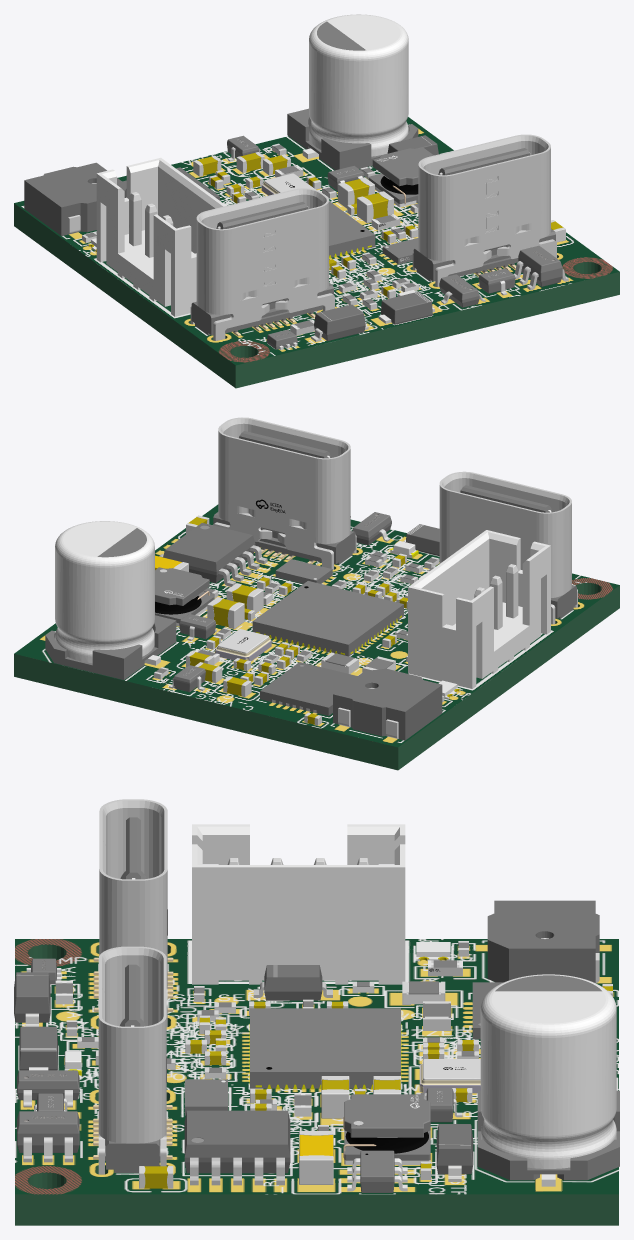
The model's file is development-controller.glb.
3 views of the same model, one above another, from view 1: azimuth 30°, elevation 25°; view 2: azimuth 150°, elevation 25°; view 3: azimuth 270°, elevation 25° (orthographic). The views are drawn at different scales.
Parts seen in each view (by area): view 1: Box0, J_DATA, J_PD, C_BULK, J_MOTOR, BZ1, L_BUCK, U_MCU, U_ESD, D_DATA, D_TVS, Q_BUZZER (+8 smaller); view 2: Box0, J_MOTOR, J_PD, C_BULK, J_DATA, U_MCU, BZ1, U_PD, U_DRV, L_BUCK, Y_MCU, U_FLASH (+7 smaller); view 3: Box0, J_MOTOR, C_BULK, J_PD, U_MCU, J_DATA, BZ1, U_PD, L_BUCK, U_ESD, D_BUZZER, U_BUCK (+15 smaller).
Part boxes in pixels (x1,y1,x2,y2): Box0: (14,117,619,388); J_DATA: (190,188,334,340); J_PD: (412,134,556,286); C_BULK: (287,14,418,170); J_MOTOR: (96,157,226,316); BZ1: (24,162,126,235); L_BUCK: (368,147,433,207); U_MCU: (329,201,375,258); U_ESD: (514,245,568,290); D_DATA: (311,304,368,341); D_TVS: (378,291,434,324); Q_BUZZER: (439,274,485,307); Box0: (14,504,619,770); J_MOTOR: (408,530,550,688); J_PD: (213,417,356,569); C_BULK: (45,521,176,679); J_DATA: (439,471,577,624); U_MCU: (252,581,403,656); BZ1: (333,668,442,740); U_PD: (159,523,267,586); U_DRV: (260,662,357,715); L_BUCK: (155,567,213,626); Y_MCU: (215,629,271,661); U_FLASH: (275,559,332,583); Box0: (15,939,618,1225); J_MOTOR: (192,824,405,984); C_BULK: (477,974,619,1186); J_PD: (93,946,172,1174); U_MCU: (249,1008,401,1089); J_DATA: (93,799,173,1026); BZ1: (487,900,599,983); U_PD: (184,1110,290,1185); L_BUCK: (343,1094,430,1164); U_ESD: (17,1111,79,1162); D_BUZZER: (253,965,332,1000); U_BUCK: (347,1150,407,1192).
Size of the model in its own units: 28 by 10.75 by 28.08.
28 materials, 2 textured.
